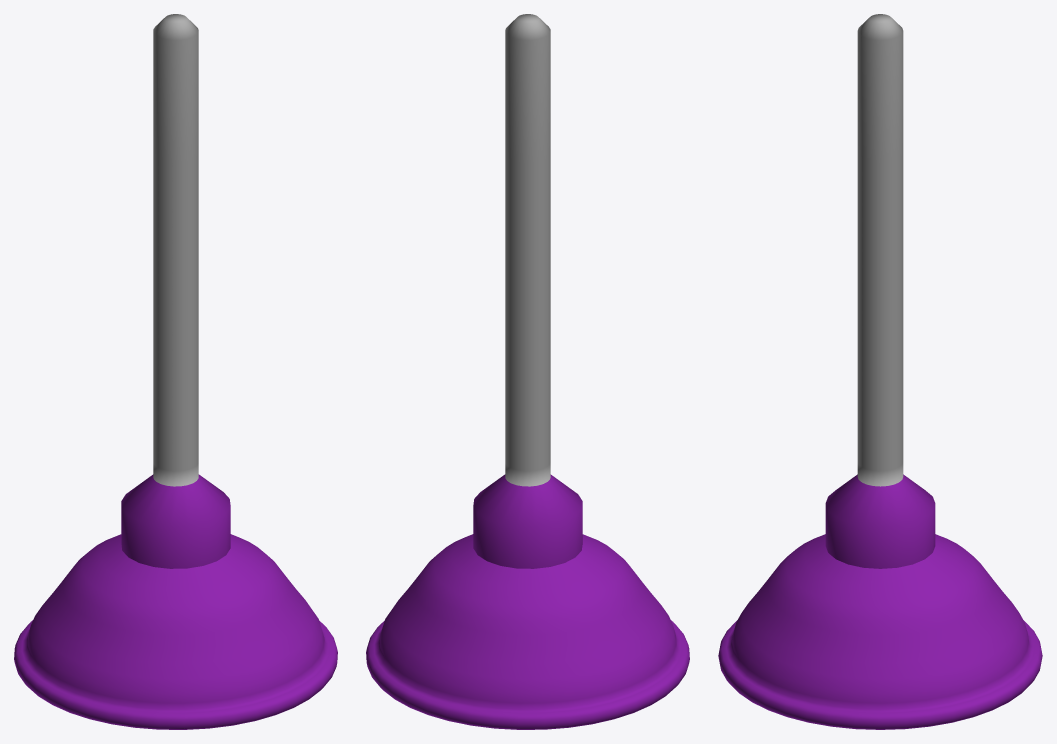
Rendered from plunger-01_1.fbx.
3 renders of one model, left to right at view 1: azimuth 30°, elevation 25°; view 2: azimuth 150°, elevation 25°; view 3: azimuth 270°, elevation 25°, orthographic.
Parts seen in each view (by area): view 1: pCylinder19; view 2: pCylinder19; view 3: pCylinder19.
Boxes of the visible parts, box(x1,y1,x2,y2) form: pCylinder19: box(14, 14, 337, 729); pCylinder19: box(366, 14, 689, 729); pCylinder19: box(718, 14, 1042, 729).
Bounding box in the file's own units: 0.6056 × 1.33 × 0.6056.
